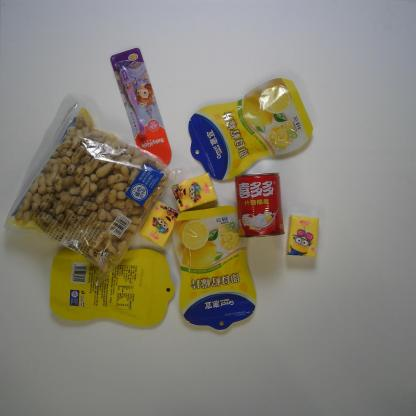Canned Food: (234, 170, 285, 238)
Dried Food: (4, 94, 183, 286)
Dried Fruit: (188, 77, 314, 181), (172, 205, 258, 330), (49, 247, 176, 327)
Personal Hygiene: (110, 48, 172, 172)
Tissue: (139, 200, 181, 249), (170, 172, 218, 212), (286, 215, 320, 258)
